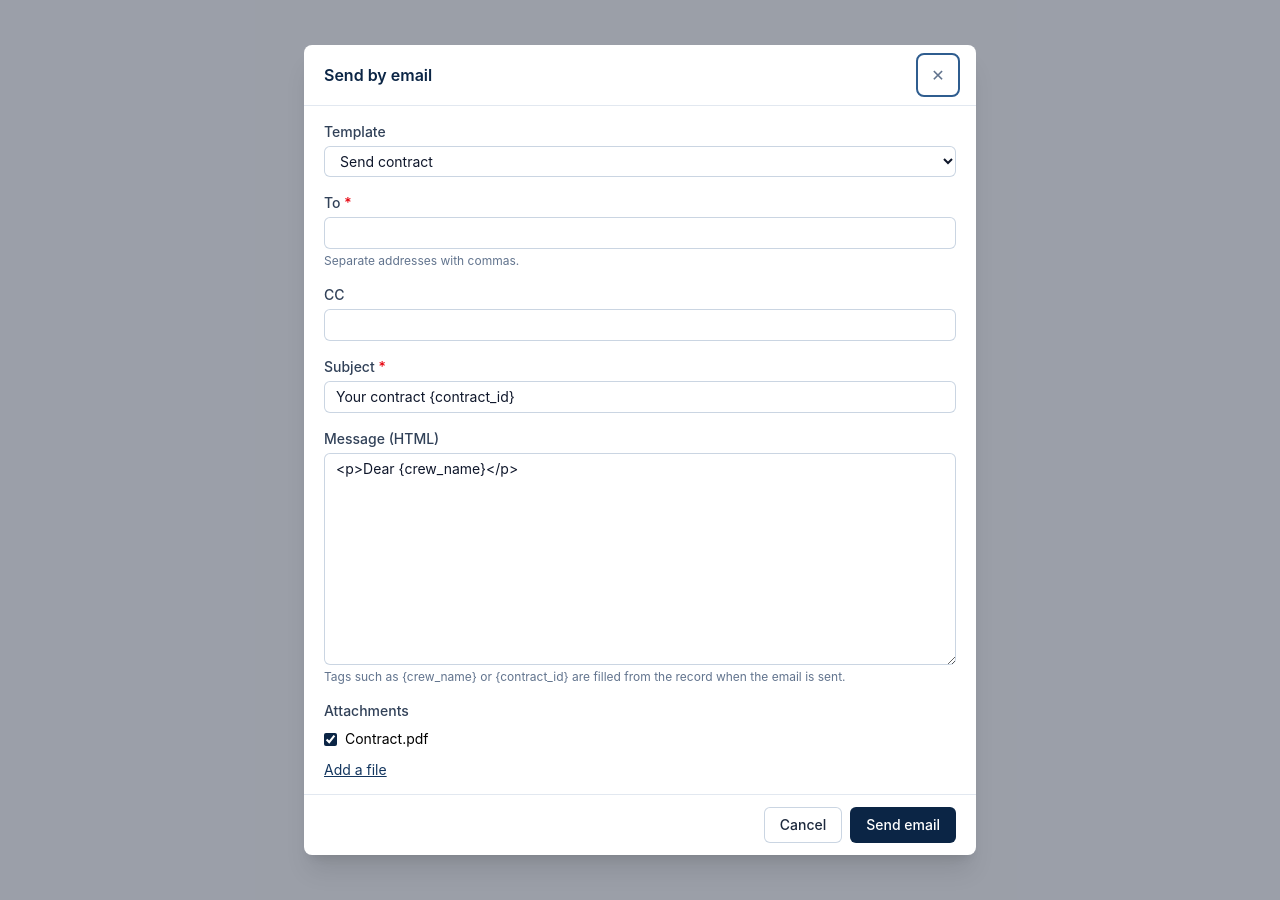
Test: EmailSendDialog › blocks sending to an invalid address
The image size is (1280, 900).
Check: the field showing "Your contract {contract_id}" is shown, box top-left (324, 381), bottom-right (956, 413)
Type "not-an-email" into the field labelled "To *" at (640, 233), box top-left (324, 217), bottom-right (956, 249)
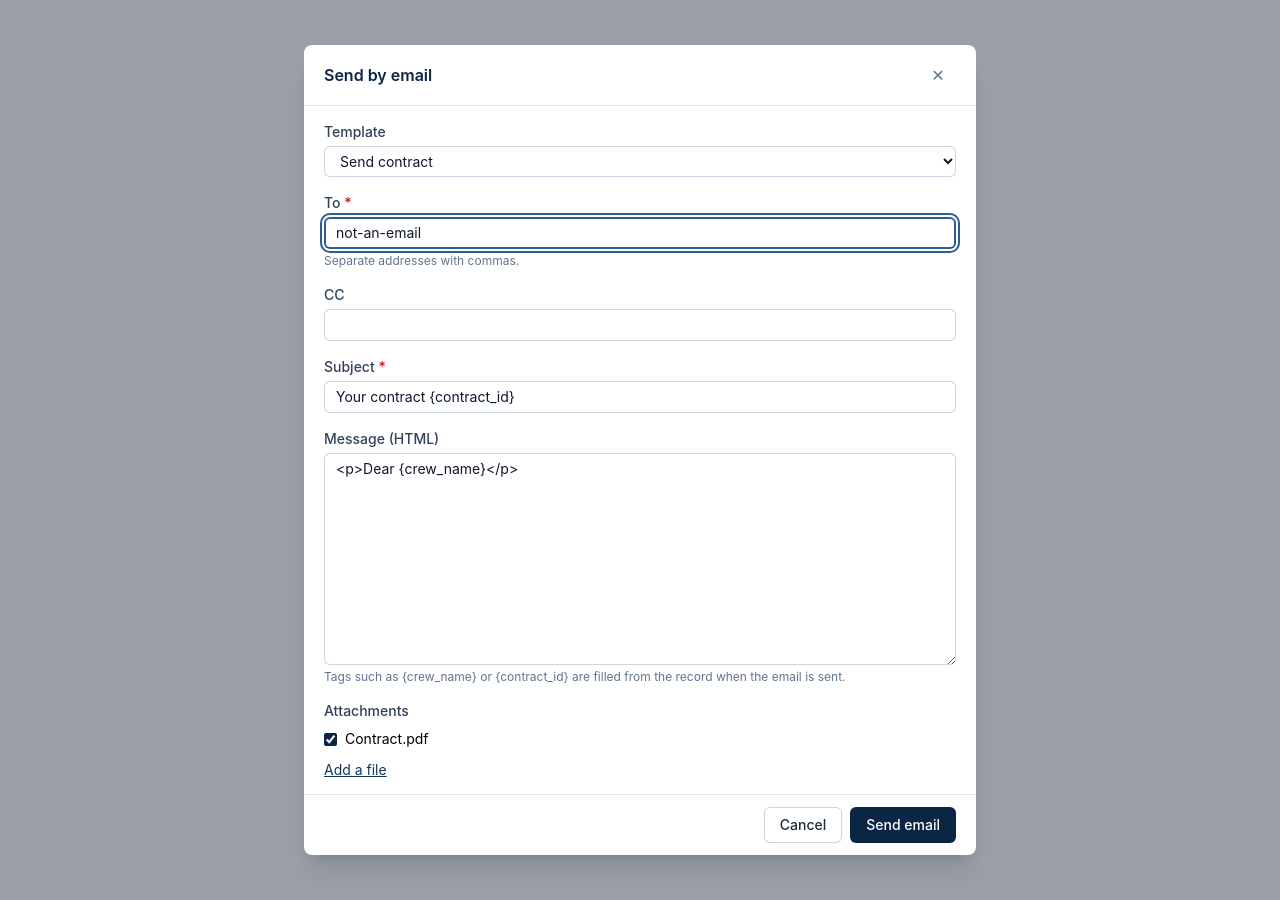
Click the button "Send email" at (903, 825), box top-left (850, 807), bottom-right (956, 843)
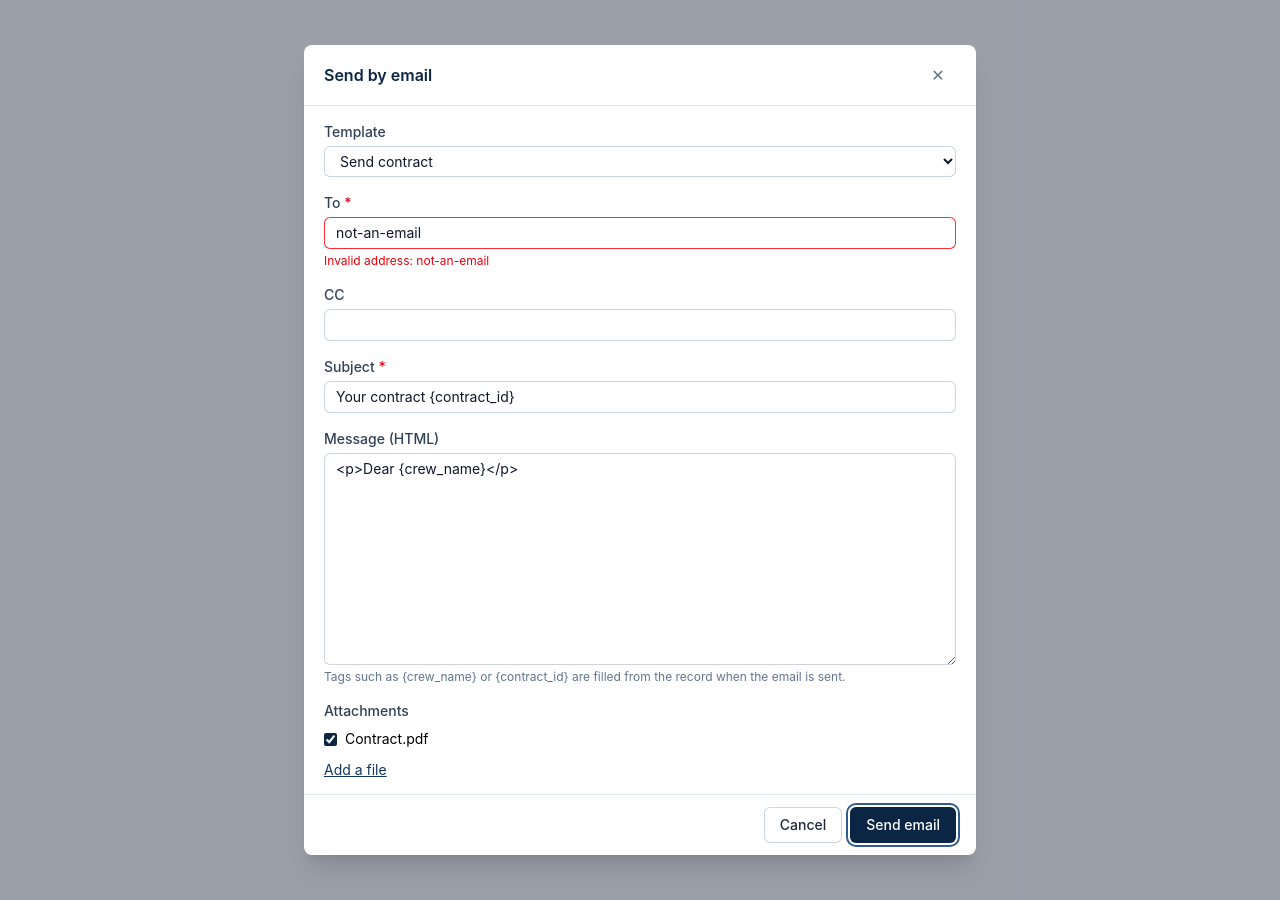
Check: the text "Invalid address: not-an-email" is shown, box top-left (324, 253), bottom-right (489, 268)
